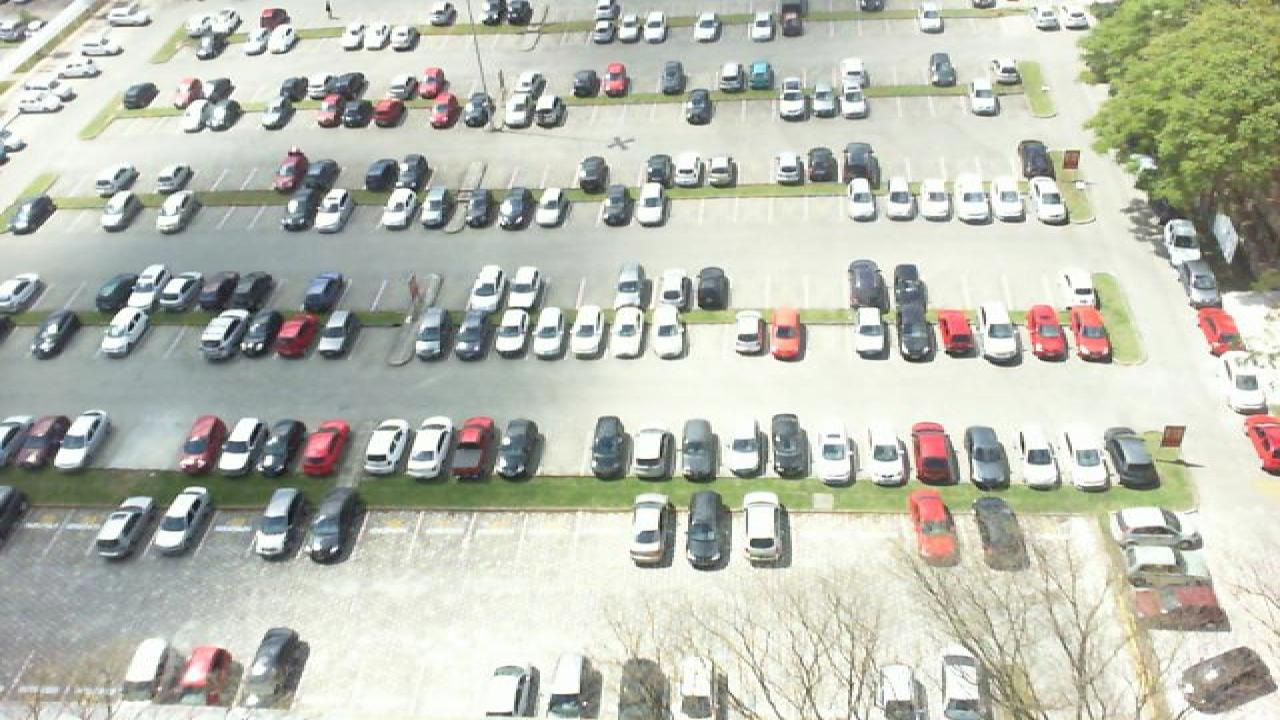Car: (244, 624, 312, 708), (904, 486, 966, 568), (968, 495, 1032, 573), (680, 488, 736, 572), (122, 634, 184, 708), (152, 485, 216, 556), (250, 486, 308, 564), (306, 485, 364, 562), (540, 650, 602, 720), (94, 493, 156, 560), (176, 642, 236, 711), (624, 492, 678, 568), (740, 494, 792, 572), (358, 415, 418, 479), (938, 652, 994, 720), (1056, 423, 1110, 493), (404, 416, 462, 480), (908, 419, 960, 490), (1104, 424, 1160, 489), (492, 416, 546, 483), (448, 414, 500, 482), (54, 410, 110, 472), (960, 423, 1010, 491), (674, 652, 724, 720), (1220, 350, 1272, 415), (172, 415, 226, 477), (298, 418, 352, 480), (256, 419, 310, 480), (1006, 428, 1060, 489), (588, 414, 636, 482), (674, 416, 722, 484), (810, 421, 860, 486), (10, 412, 66, 470), (218, 415, 270, 476), (932, 306, 984, 366), (976, 305, 1026, 367), (1066, 302, 1114, 366), (766, 412, 810, 480), (198, 306, 252, 361), (1022, 302, 1070, 362), (866, 425, 912, 487), (100, 306, 150, 362), (722, 422, 768, 482), (846, 304, 894, 361), (452, 302, 496, 364), (30, 310, 84, 360), (630, 426, 678, 481), (894, 300, 936, 362), (646, 303, 690, 361), (412, 306, 456, 363), (1194, 305, 1244, 355), (310, 310, 358, 362), (1026, 173, 1072, 226), (842, 258, 888, 310), (606, 303, 646, 361), (1174, 260, 1222, 308), (270, 314, 320, 360), (1160, 217, 1206, 267), (492, 304, 532, 361), (120, 261, 162, 315), (234, 313, 282, 360), (530, 304, 570, 360), (570, 302, 608, 360), (768, 304, 808, 359), (844, 173, 884, 226), (612, 261, 654, 311), (730, 306, 770, 358), (990, 176, 1030, 228), (302, 269, 346, 316), (378, 184, 420, 233), (888, 261, 928, 312), (502, 262, 544, 310), (154, 187, 196, 234), (954, 177, 994, 226), (1014, 138, 1058, 182), (234, 268, 276, 314), (278, 188, 320, 234), (446, 186, 488, 232), (596, 182, 638, 228), (690, 264, 730, 312), (312, 187, 352, 235), (632, 179, 672, 227), (918, 177, 958, 225), (158, 270, 200, 315), (882, 178, 922, 225), (520, 183, 558, 232), (482, 186, 522, 232), (196, 270, 236, 314), (466, 262, 504, 308), (414, 186, 452, 232), (274, 146, 312, 192), (842, 140, 880, 186), (358, 156, 402, 194), (776, 77, 812, 122), (804, 142, 842, 184), (206, 94, 246, 132), (308, 89, 346, 129), (424, 89, 462, 129), (638, 152, 674, 194), (966, 74, 1002, 116), (178, 94, 216, 132), (396, 152, 432, 192), (668, 152, 706, 189), (700, 152, 738, 189), (656, 270, 692, 308), (770, 150, 808, 186), (262, 94, 300, 130), (338, 90, 374, 128), (712, 58, 750, 94), (924, 51, 960, 89), (810, 81, 844, 121), (840, 79, 874, 119), (368, 92, 404, 128), (656, 58, 690, 96), (988, 55, 1024, 90), (534, 93, 568, 130), (600, 61, 634, 98), (836, 53, 870, 89), (500, 93, 532, 130), (462, 94, 494, 130), (746, 56, 778, 92)
